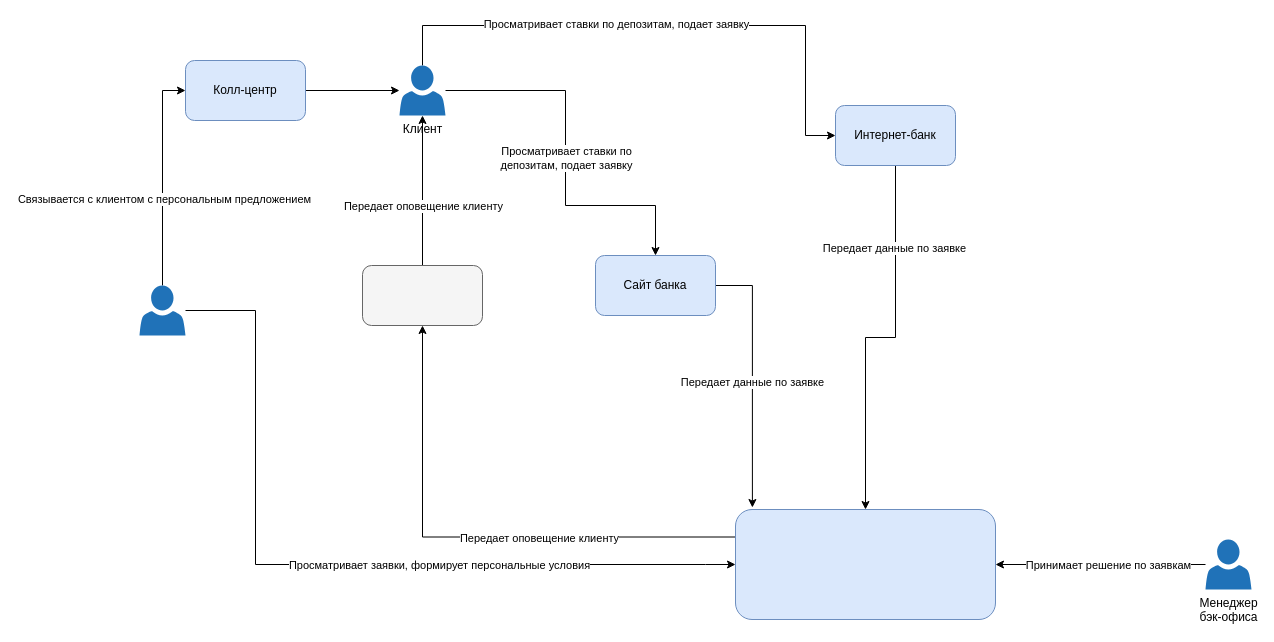
Some shapes in this 1274 by 642 pixel diagram are drawn without their labels. The centre of each missing label's shape, as x and y in pixels:
"АБС" belongs at point (865, 564).
"Менеджер колл-центра" belongs at point (162, 310).
"Сервис СМС Оповещения" belongs at point (422, 295).
